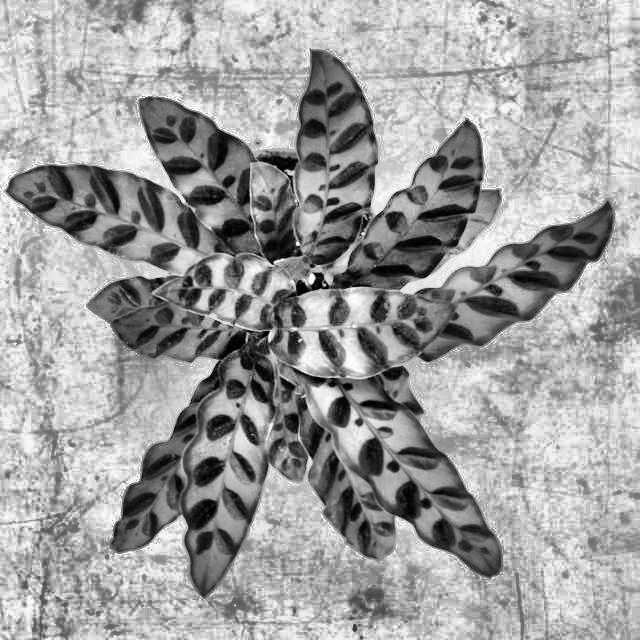plants: (16, 62, 619, 572)
